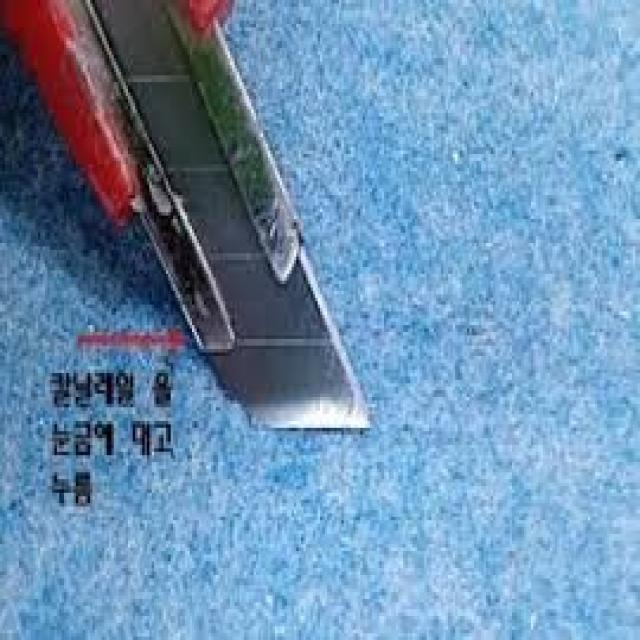cutter: (10, 0, 388, 449)
